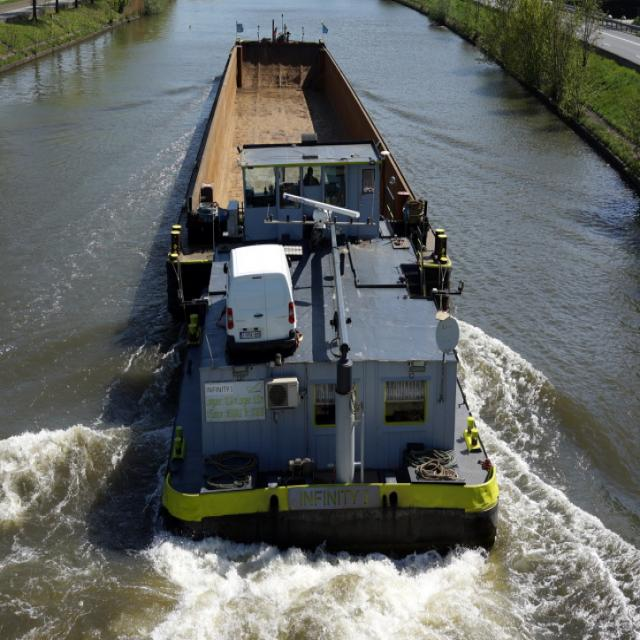tugboat: (156, 131, 505, 569)
